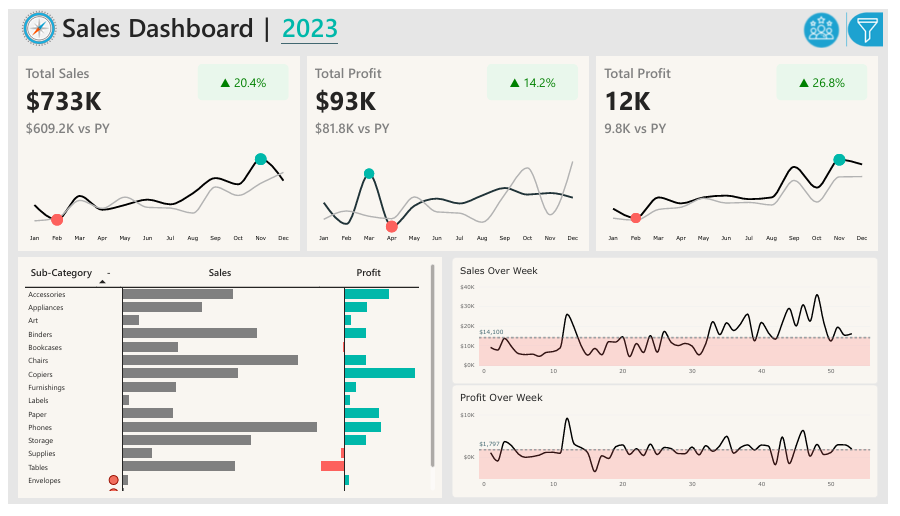

The page's visual inventory and layout, read from the dashboard file:
{"tool":"powerbi","page":{"name":"Sales Dashboard","canvas":[1920,1080],"ordinal":0},"visuals":[{"type":"shape","box":[412,117.6,199,78.7],"z":0,"group":"g1"},{"type":"shape","box":[1044,117.6,199,78.7],"z":0,"group":"g2"},{"type":"shape","box":[1676,117.6,199,78.7],"z":0,"group":"g3"},{"type":"tableEx","fields":{"Values":["dim_products.Sub-Category","_measures.CY Sales Less then PY","_measures.sales_CY","_measures.Profit_CY"]},"box":[20,540,926,524],"z":0},{"type":"shape","title":"Shape","box":[20,102,614.1,424.9],"z":1000,"group":"g1"},{"type":"shape","title":"Shape","box":[652,102,614.1,424.9],"z":1000,"group":"g2"},{"type":"shape","title":"Shape","box":[1284,102,614.1,424.9],"z":1000,"group":"g3"},{"type":"lineChart","title":"Sales Over Week","fields":{"Category":["Calendar.week"],"Y":["_measures.sales_CY"]},"box":[968,540,930,276],"z":1000},{"type":"shape","box":[412,118,199,78.7],"z":2000,"group":"g1"},{"type":"shape","box":[1044,118,199,78.7],"z":2000,"group":"g2"},{"type":"shape","box":[1676,118,199,78.7],"z":2000,"group":"g3"},{"type":"lineChart","title":"Profit Over Week","fields":{"Category":["Calendar.week"],"Y":["_measures.Profit_CY"]},"box":[968,818,930,246],"z":2000},{"type":"cardVisual","fields":{"Data":["_measures.sales_CY"]},"box":[20,102.5,615,187.5],"z":3000,"group":"g1"},{"type":"cardVisual","fields":{"Data":["_measures.Profit_CY"]},"box":[652,102.5,615,187.5],"z":3000,"group":"g2"},{"type":"cardVisual","fields":{"Data":["_measures.Qty_CY"]},"box":[1284,102.5,615,187.5],"z":3000,"group":"g3"},{"type":"textbox","box":[116,0,642,80],"z":4000},{"type":"lineChart","fields":{"Category":["Calendar.month_name"],"Y":["_measures.sales_CY","_measures.sales_PY","_measures.Max Month Marker","_measures.Min Month Marker"]},"box":[20,290,615,235],"z":4000,"group":"g1"},{"type":"lineChart","fields":{"Category":["Calendar.month_name"],"Y":["_measures.Profit_CY","_measures.Profit_PY","_measures.Profit Max Point","_measures.Profit Min Point"]},"box":[652,290,615,235],"z":4000,"group":"g2"},{"type":"lineChart","fields":{"Category":["Calendar.month_name"],"Y":["_measures.Qty_CY","_measures.Qty_PY","_measures.Qty Max Point","_measures.Qty Min Point"]},"box":[1284,290,615,235],"z":4000,"group":"g3"},{"type":"group","id":"g1","title":"Card_Sales","box":[20,102,615,424.9],"z":5000},{"type":"group","id":"g2","title":"Card_Profit","box":[652,102,616,424],"z":6000},{"type":"group","id":"g3","title":"Card_Qty","box":[1284,102,616,424],"z":7000},{"type":"image","box":[8,0,116,80],"z":8000},{"type":"actionButton","box":[1712,4,126,80],"z":9000},{"type":"actionButton","title":"btn_open","box":[1820,2,100,82],"z":11000}]}

Visuals, with their boxes in screenshot pixels (x1, y1, x2, y2), scaled from the page's 1920x1080 canvas onto the 900x516 screenshot:
shape: x1=193 y1=56 x2=286 y2=94
shape: x1=489 y1=56 x2=583 y2=94
shape: x1=786 y1=56 x2=879 y2=94
tableEx - dim_products.Sub-Category x _measures.CY Sales Less then PY: x1=9 y1=258 x2=443 y2=508
"Shape" shape: x1=9 y1=49 x2=297 y2=252
"Shape" shape: x1=306 y1=49 x2=593 y2=252
"Shape" shape: x1=602 y1=49 x2=890 y2=252
"Sales Over Week" lineChart: x1=454 y1=258 x2=890 y2=390
shape: x1=193 y1=56 x2=286 y2=94
shape: x1=489 y1=56 x2=583 y2=94
shape: x1=786 y1=56 x2=879 y2=94
"Profit Over Week" lineChart: x1=454 y1=391 x2=890 y2=508
cardVisual - _measures.sales_CY: x1=9 y1=49 x2=298 y2=139
cardVisual - _measures.Profit_CY: x1=306 y1=49 x2=594 y2=139
cardVisual - _measures.Qty_CY: x1=602 y1=49 x2=890 y2=139
textbox: x1=54 y1=0 x2=355 y2=38
lineChart - Calendar.month_name x _measures.sales_CY: x1=9 y1=139 x2=298 y2=251
lineChart - Calendar.month_name x _measures.Profit_CY: x1=306 y1=139 x2=594 y2=251
lineChart - Calendar.month_name x _measures.Qty_CY: x1=602 y1=139 x2=890 y2=251
"Card_Sales" group: x1=9 y1=49 x2=298 y2=252
"Card_Profit" group: x1=306 y1=49 x2=594 y2=251
"Card_Qty" group: x1=602 y1=49 x2=891 y2=251
image: x1=4 y1=0 x2=58 y2=38
actionButton: x1=802 y1=2 x2=862 y2=40
"btn_open" actionButton: x1=853 y1=1 x2=899 y2=40
